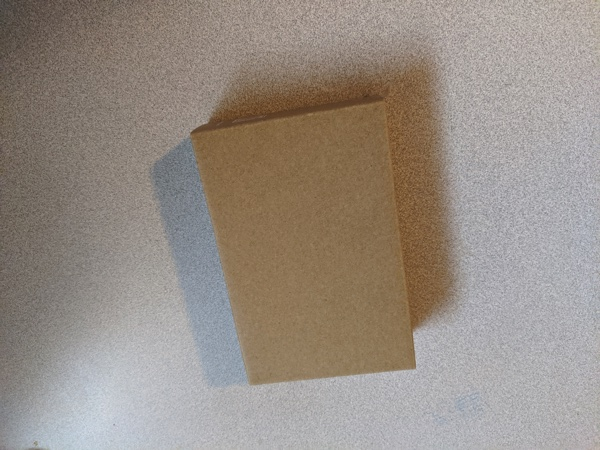cardboard: (179, 86, 434, 398)
